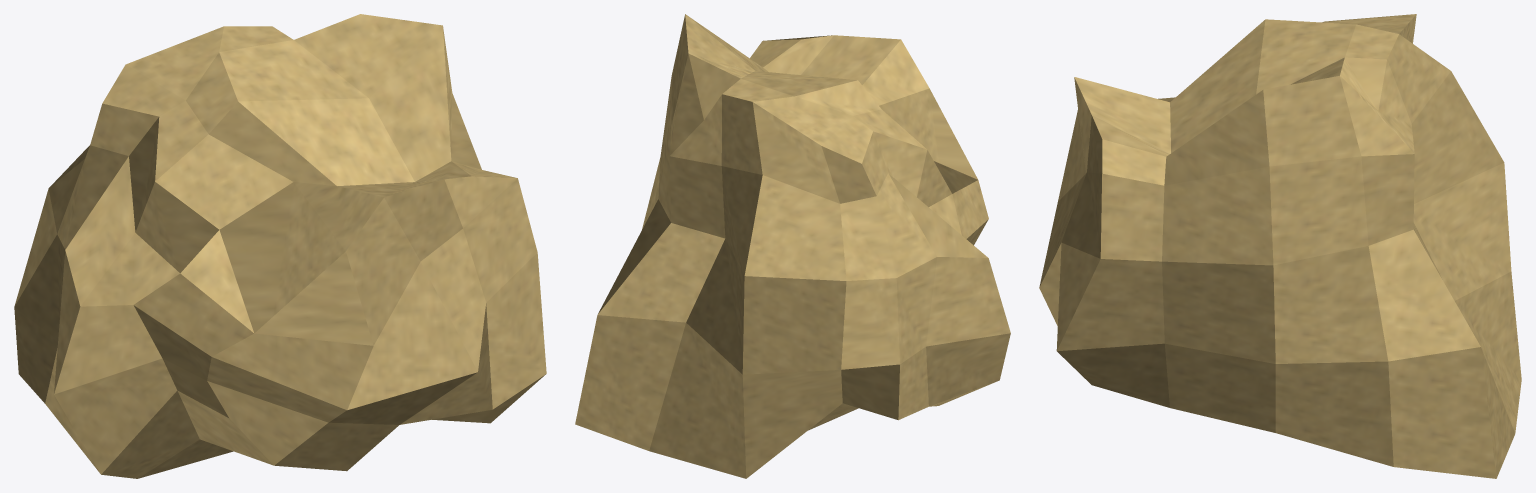
The model's file is Mineral_Ouro.fbx.
The picture shows the model from 3 angles, left to right: view 1: azimuth 30°, elevation 25°; view 2: azimuth 150°, elevation 25°; view 3: azimuth 270°, elevation 25°; orthographic projection. The views are drawn at different scales.
Visible parts, largest first — view 1: Minerais; view 2: Minerais; view 3: Minerais.
Boxes of the visible parts, x1=… form: Minerais: x1=14, y1=14, x2=546, y2=478; Minerais: x1=575, y1=14, x2=1010, y2=478; Minerais: x1=1039, y1=14, x2=1521, y2=478.
Bounding box in the file's own units: 20.14 × 18.73 × 21.15.
Materials: 1 (1 with a texture image).
